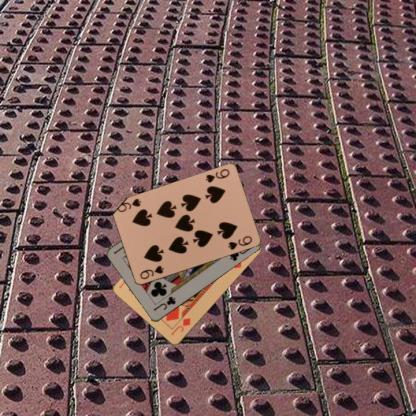9s: (137, 263, 165, 281), (203, 166, 230, 184)
Jc: (151, 294, 177, 313)
Jd: (168, 315, 192, 337)
